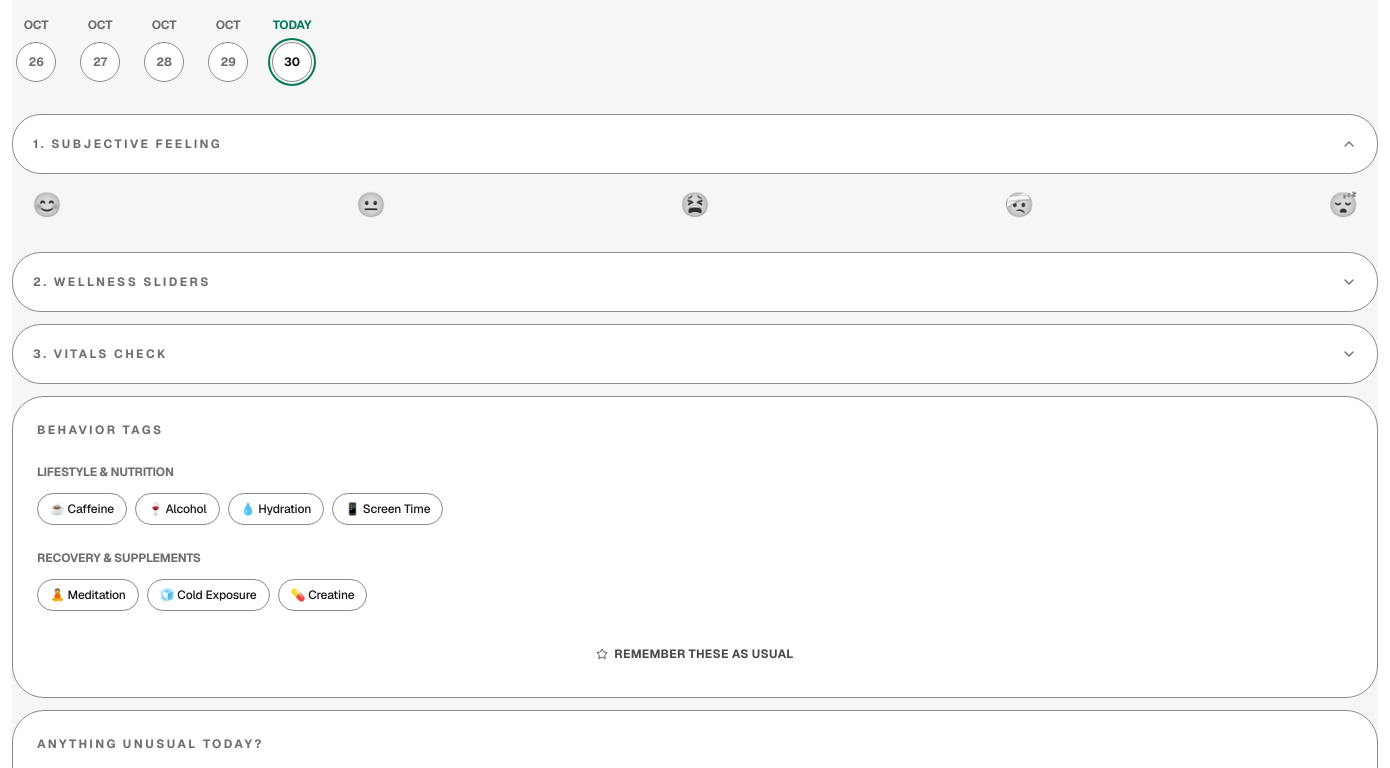
Test: journal form — floor holds on the manual-vitals path (v0.102 task 7) › holds the floor on the manual-vitals path too
Click the button "3. Vitals Check".
click(100, 354)  # box top-left (12, 324), bottom-right (1378, 384)
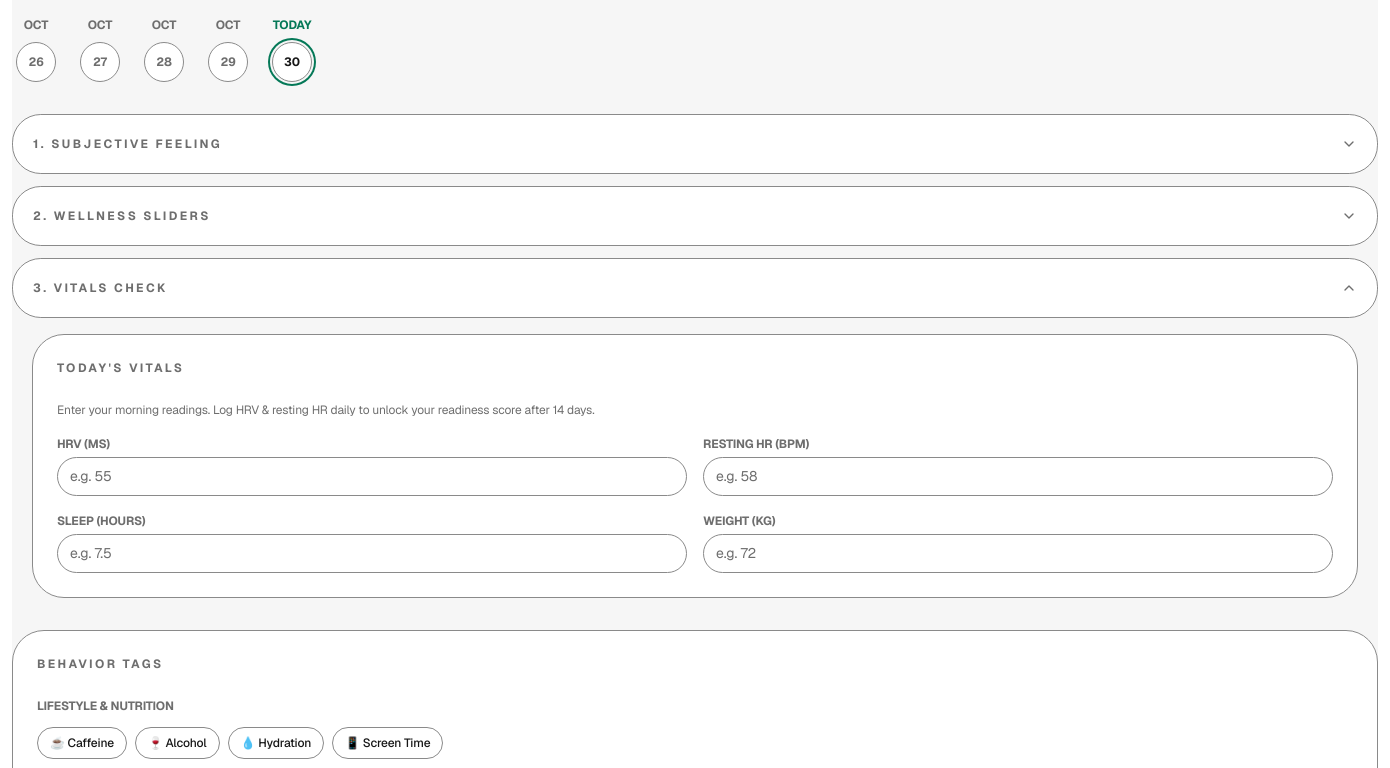
Expected: the text "HRV (ms)" is shown, top-left (57, 436), bottom-right (110, 452)
